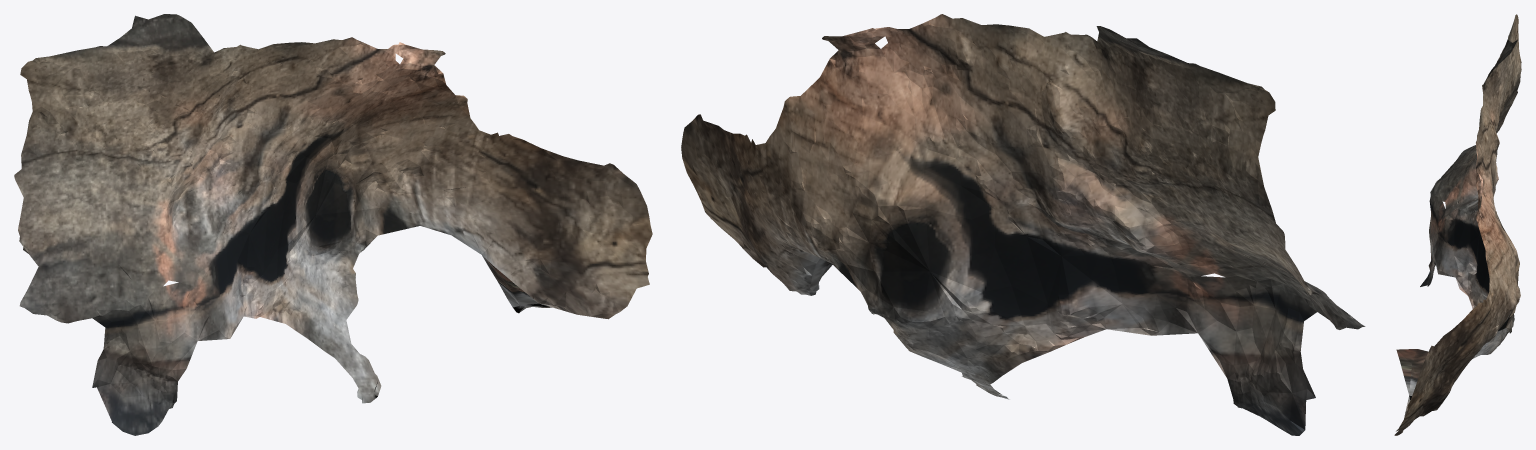
The picture shows the model from 3 angles, left to right: view 1: azimuth 30°, elevation 25°; view 2: azimuth 150°, elevation 25°; view 3: azimuth 270°, elevation 25°; orthographic projection. The views are drawn at different scales.
Parts seen in each view (by area): view 1: TexturedMesh; view 2: TexturedMesh; view 3: TexturedMesh.
Boxes of the visible parts, x1=… form: TexturedMesh: x1=14, y1=14, x2=652, y2=435; TexturedMesh: x1=681, y1=14, x2=1365, y2=435; TexturedMesh: x1=1394, y1=14, x2=1521, y2=435.
Bounding box in the file's own units: 2.26 × 1.39 × 0.5587.
1 material, 1 textured.
